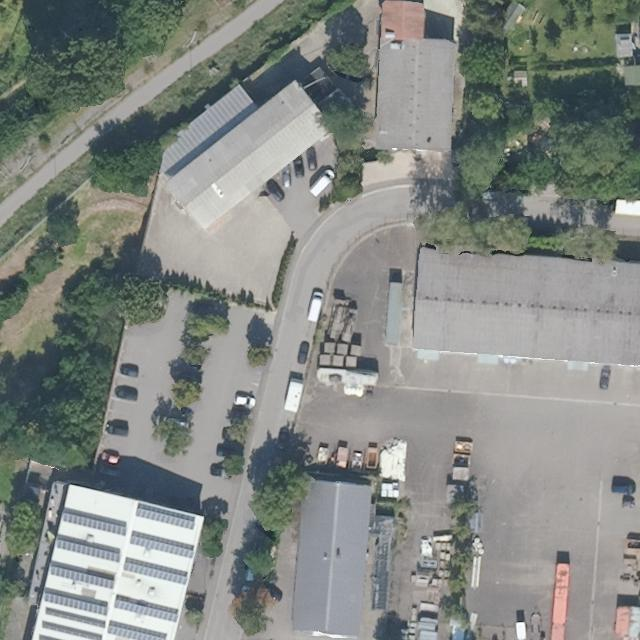PV: (128, 527, 198, 561), (61, 508, 131, 540), (49, 563, 117, 593), (54, 536, 124, 565), (111, 596, 181, 625), (122, 559, 190, 588), (44, 588, 110, 616), (132, 504, 196, 531), (106, 621, 168, 638)
